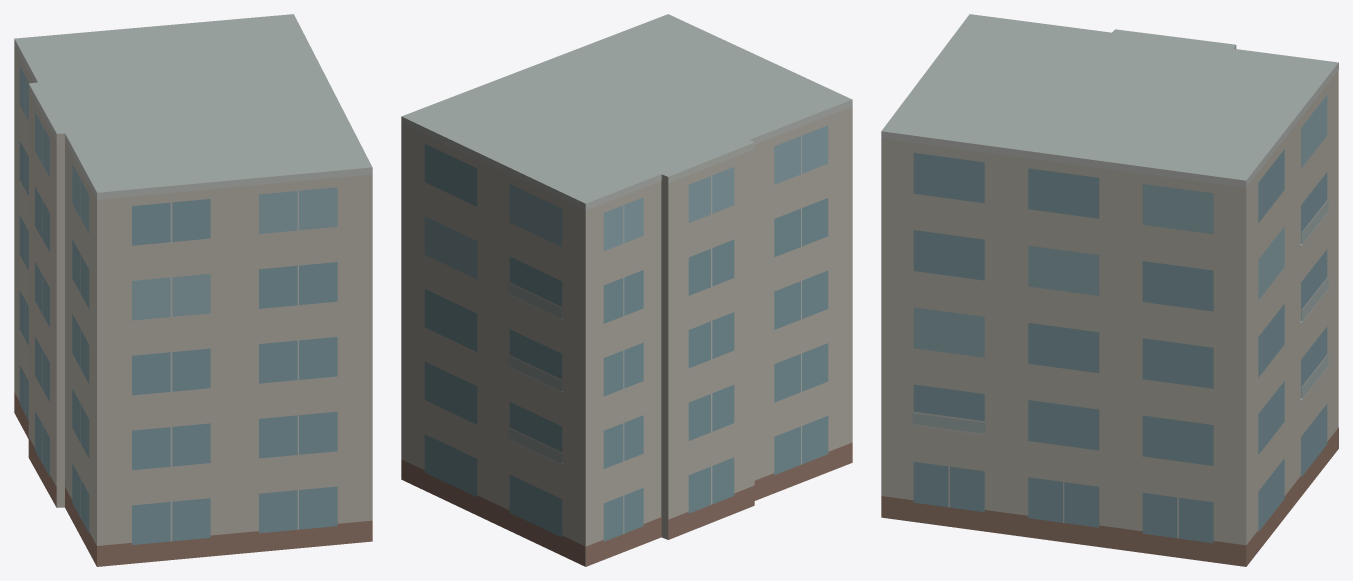
Rendered from survey-upis-32996696.glb.
3 renders of one model, left to right at view 1: azimuth 30°, elevation 25°; view 2: azimuth 150°, elevation 25°; view 3: azimuth 270°, elevation 25°, orthographic. The views are drawn at different scales.
Parts seen in each view (by area): view 1: survey-upis-32996696.tmp; view 2: survey-upis-32996696.tmp; view 3: survey-upis-32996696.tmp.
Boxes of the visible parts, <box> form: survey-upis-32996696.tmp: <box>14,14,372,566</box>; survey-upis-32996696.tmp: <box>401,14,852,566</box>; survey-upis-32996696.tmp: <box>881,14,1338,566</box>.
Size of the model in its own units: 12.13 by 13.1 by 14.07.
